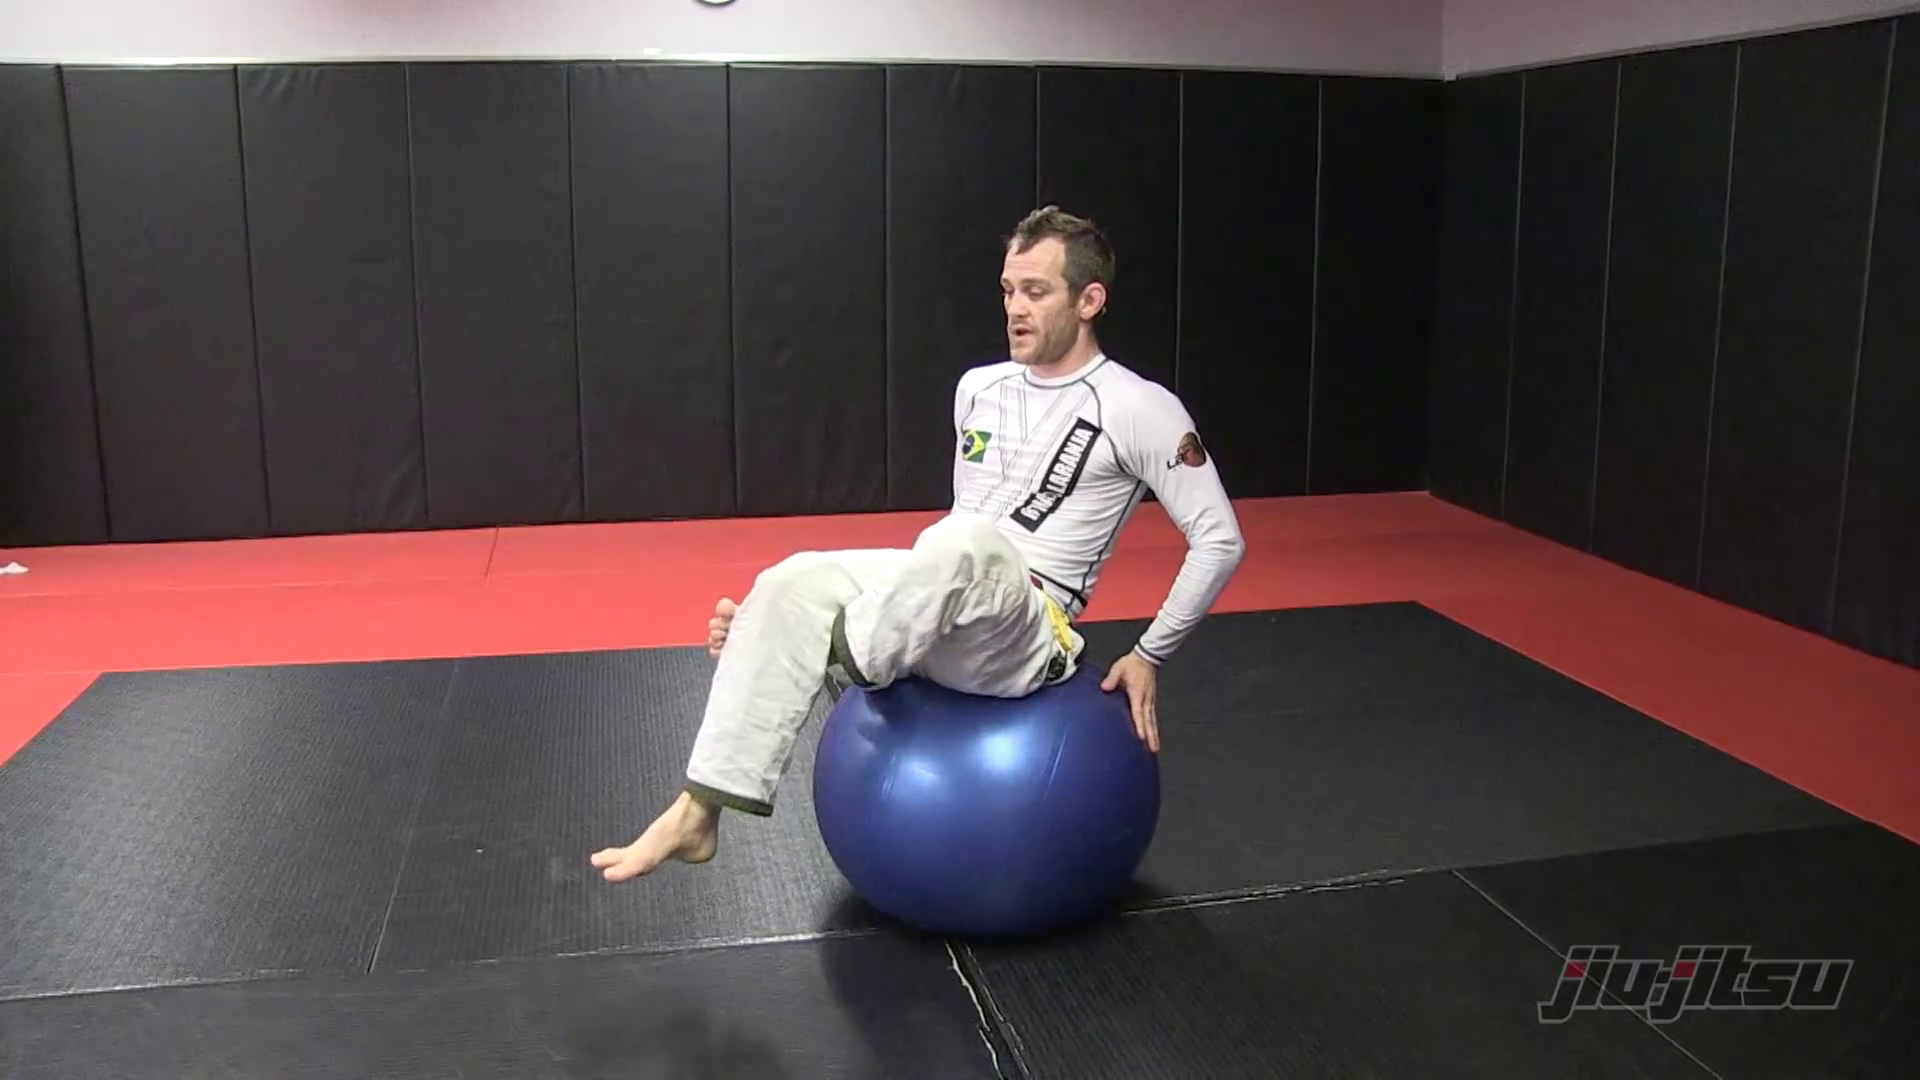yogaball: (806, 654, 1174, 953)
